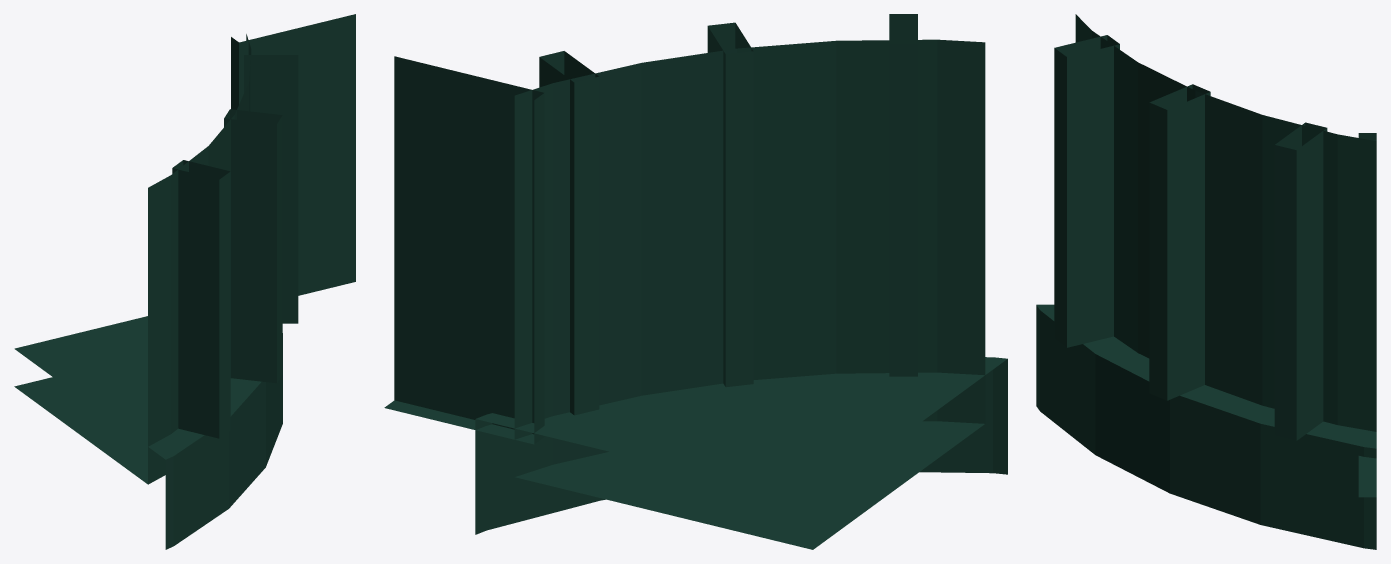
File: cell_193.obj
The picture shows the model from 3 angles, left to right: view 1: azimuth 30°, elevation 25°; view 2: azimuth 150°, elevation 25°; view 3: azimuth 270°, elevation 25°; orthographic projection. The views are drawn at different scales.
Size of the model in its own units: 1 by 1 by 0.7869.
